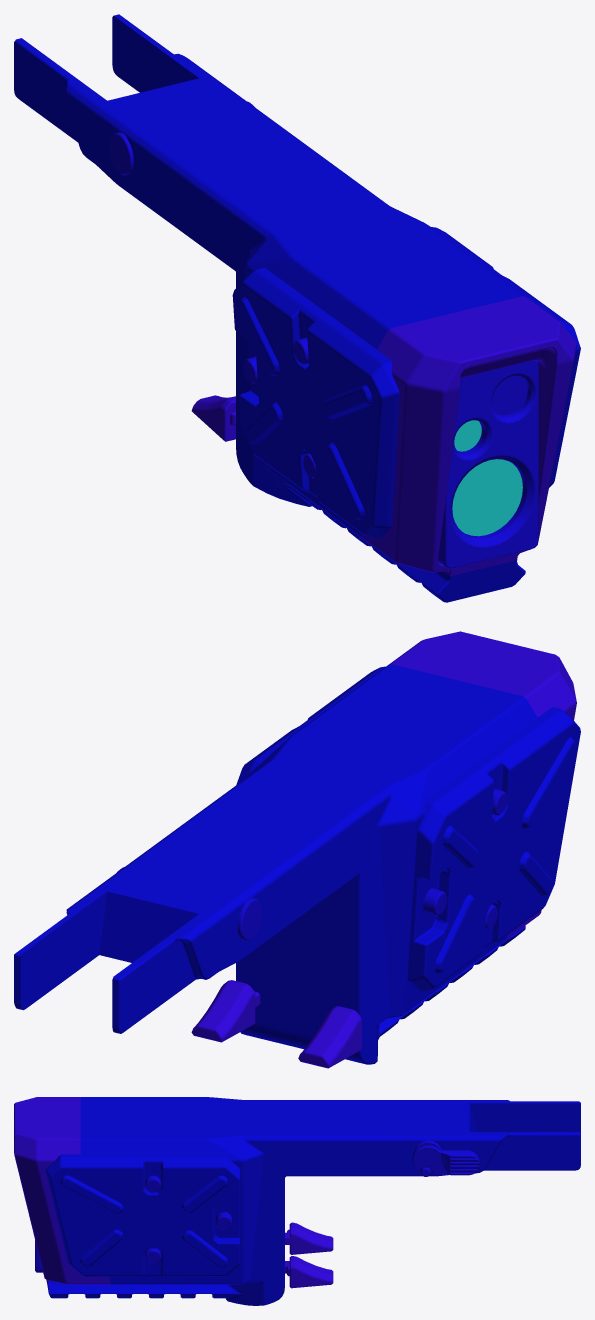
File: Receiver_Pistol_1.glb
3 renders of one model, top to bottom at view 1: azimuth 30°, elevation 25°; view 2: azimuth 150°, elevation 25°; view 3: azimuth 270°, elevation 25°, orthographic. The views are drawn at different scales.
Visible parts, largest first — view 1: Receiver_Pistol_1_1.001; view 2: Receiver_Pistol_1_1.001; view 3: Receiver_Pistol_1_1.001.
Boxes of the visible parts, x1,y1,x2,y2 form: Receiver_Pistol_1_1.001: [14, 14, 580, 602]; Receiver_Pistol_1_1.001: [14, 631, 580, 1068]; Receiver_Pistol_1_1.001: [14, 1097, 580, 1305].
Size of the model in its own units: 0.0491 by 0.0601 by 0.1778.
